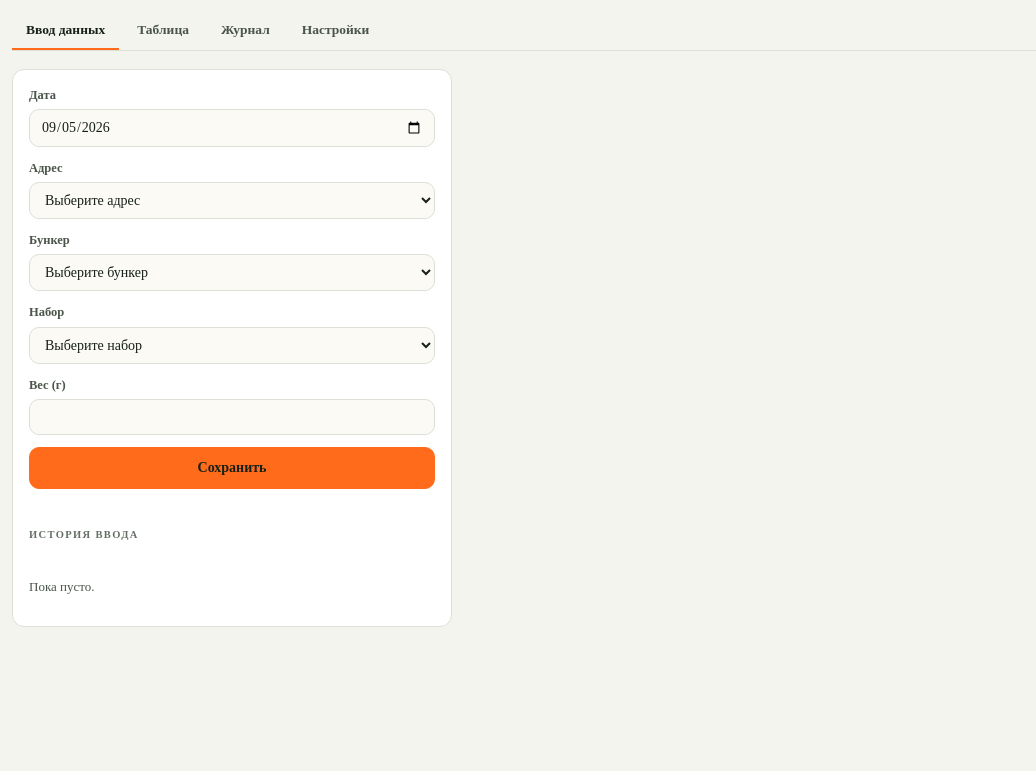
Test: формы настроек кофе › показывает ошибку создания локации и сохраняет название
Step 1. Click the button "Настройки" → click(336, 31), box left=288, top=12, right=383, bottom=50
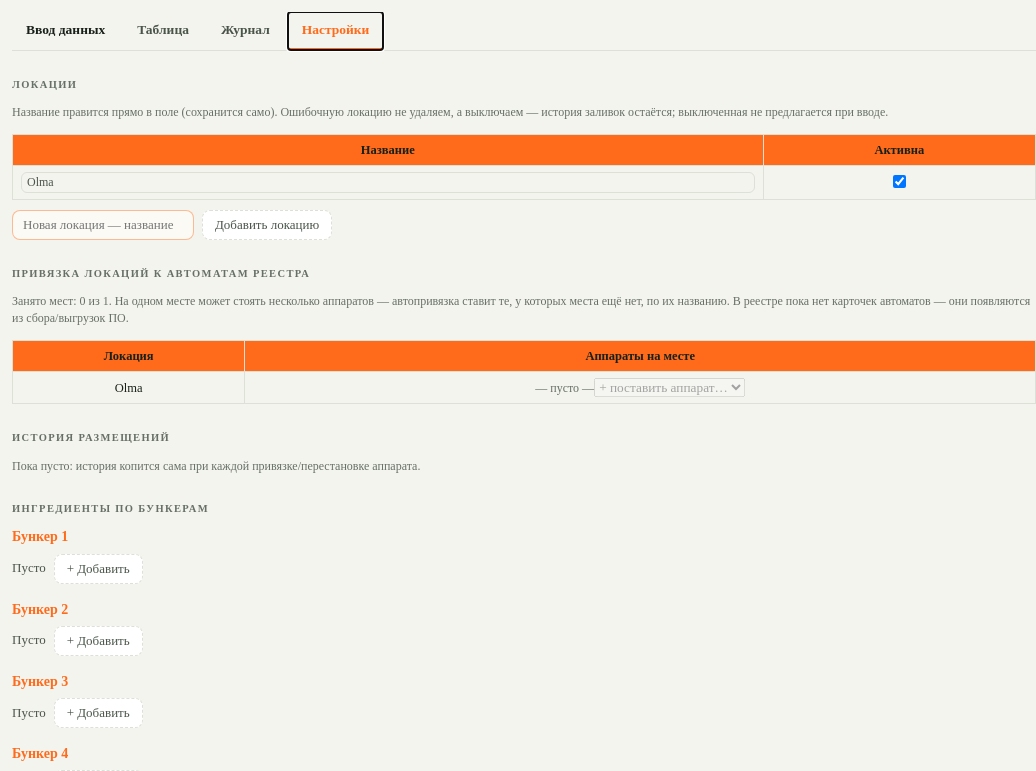
Step 2. Type "  Chilanzar  " into the field with placeholder "Новая локация — название" → (103, 225), box left=12, top=210, right=194, bottom=240
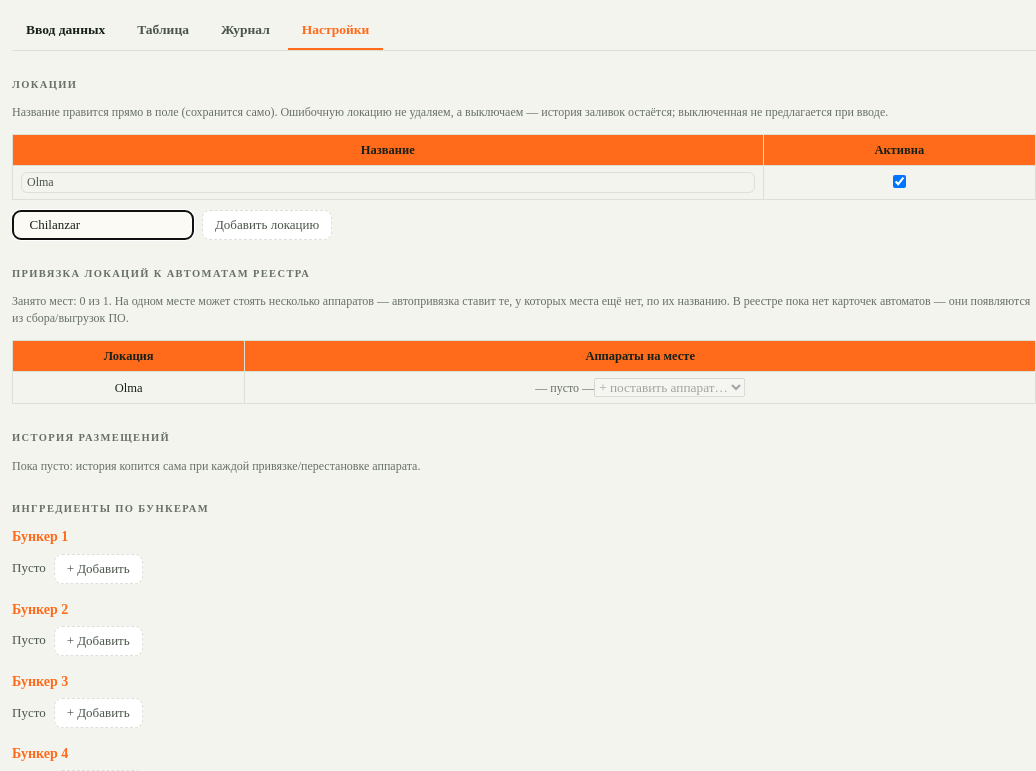
Step 3. Click the button "Добавить локацию" → click(267, 225), box left=202, top=210, right=332, bottom=240
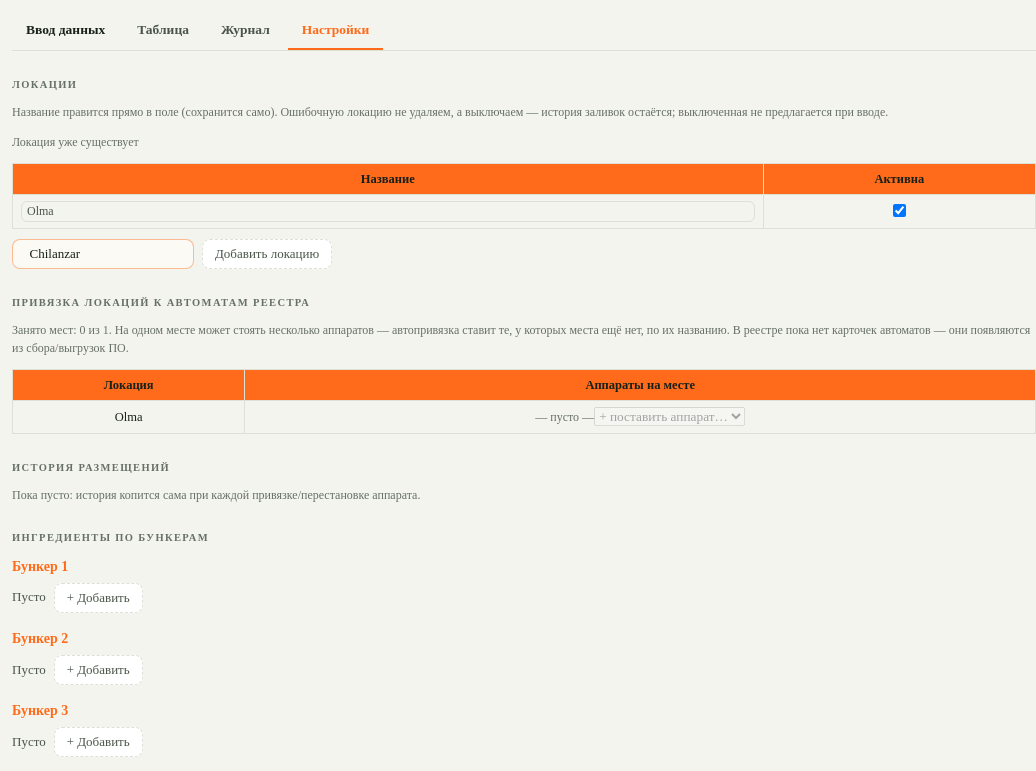
Result: the text "Локация уже существует" is shown at left=12, top=135, right=139, bottom=149
